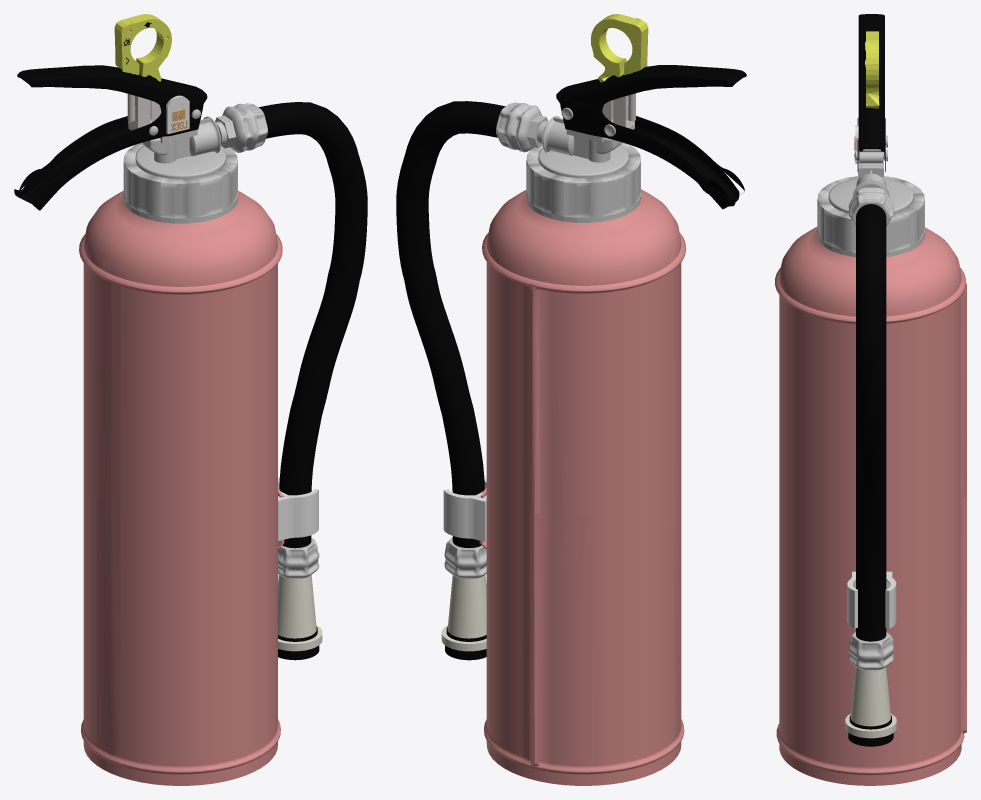
Rendered from extinguisher.fbx.
The picture shows the model from 3 angles, left to right: view 1: azimuth 30°, elevation 25°; view 2: azimuth 150°, elevation 25°; view 3: azimuth 270°, elevation 25°; orthographic projection. The views are drawn at different scales.
Parts seen in each view (by area): view 1: mhq:Obj3d66_650340_1269_982, mhq:Obj3d66_650340_1288_762, mhq:Obj3d66_650340_1289_675, mhq:Obj3d66_650340_1294_460, mhq:Obj3d66_650340_1305_972, mhq:Obj3d66_650340_1308_632, mhq:Obj3d66_650340_1273_63, mhq:Obj3d66_650340_1272_105, mhq:Obj3d66_650340_1278_932, mhq:Obj3d66_650340_1292_103, mhq:Obj3d66_650340_1293_708, mhq:Obj3d66_650340_1297_964 (+2 smaller); view 2: mhq:Obj3d66_650340_1269_982, mhq:Obj3d66_650340_1288_762, mhq:Obj3d66_650340_1289_675, mhq:Obj3d66_650340_1294_460, mhq:Obj3d66_650340_1305_972, mhq:Obj3d66_650340_1308_632, mhq:Obj3d66_650340_1273_63, mhq:Obj3d66_650340_1272_105, mhq:Obj3d66_650340_1278_932, mhq:Obj3d66_650340_1292_103, mhq:Obj3d66_650340_1293_708, mhq:Obj3d66_650340_1297_964 (+1 smaller); view 3: mhq:Obj3d66_650340_1269_982, mhq:Obj3d66_650340_1288_762, mhq:Obj3d66_650340_1289_675, mhq:Obj3d66_650340_1305_972, mhq:Obj3d66_650340_1273_63, mhq:Obj3d66_650340_1293_708, mhq:Obj3d66_650340_1278_932, mhq:Obj3d66_650340_1272_105, mhq:Obj3d66_650340_1308_632, mhq:Obj3d66_650340_1292_103, mhq:Obj3d66_650340_1274_566, mhq:Obj3d66_650340_1297_964 (+1 smaller).
Part boxes in pixels (x1=…): mhq:Obj3d66_650340_1269_982: x1=79, y1=191, x2=282, y2=785; mhq:Obj3d66_650340_1288_762: x1=259, y1=102, x2=367, y2=548; mhq:Obj3d66_650340_1289_675: x1=123, y1=143, x2=237, y2=223; mhq:Obj3d66_650340_1294_460: x1=14, y1=99, x2=203, y2=210; mhq:Obj3d66_650340_1305_972: x1=17, y1=65, x2=207, y2=112; mhq:Obj3d66_650340_1308_632: x1=114, y1=14, x2=171, y2=81; mhq:Obj3d66_650340_1273_63: x1=278, y1=575, x2=316, y2=638; mhq:Obj3d66_650340_1272_105: x1=278, y1=477, x2=318, y2=540; mhq:Obj3d66_650340_1278_932: x1=135, y1=146, x2=225, y2=178; mhq:Obj3d66_650340_1292_103: x1=222, y1=103, x2=268, y2=152; mhq:Obj3d66_650340_1293_708: x1=278, y1=537, x2=319, y2=578; mhq:Obj3d66_650340_1297_964: x1=189, y1=116, x2=220, y2=156; mhq:Obj3d66_650340_1269_982: x1=482, y1=189, x2=686, y2=785; mhq:Obj3d66_650340_1288_762: x1=396, y1=101, x2=505, y2=548; mhq:Obj3d66_650340_1289_675: x1=526, y1=142, x2=640, y2=222; mhq:Obj3d66_650340_1294_460: x1=560, y1=99, x2=744, y2=209; mhq:Obj3d66_650340_1305_972: x1=556, y1=65, x2=746, y2=111; mhq:Obj3d66_650340_1308_632: x1=591, y1=14, x2=648, y2=82; mhq:Obj3d66_650340_1273_63: x1=447, y1=574, x2=486, y2=638; mhq:Obj3d66_650340_1272_105: x1=443, y1=478, x2=486, y2=541; mhq:Obj3d66_650340_1278_932: x1=538, y1=145, x2=628, y2=177; mhq:Obj3d66_650340_1292_103: x1=496, y1=102, x2=542, y2=152; mhq:Obj3d66_650340_1293_708: x1=444, y1=537, x2=486, y2=578; mhq:Obj3d66_650340_1297_964: x1=543, y1=116, x2=574, y2=155; mhq:Obj3d66_650340_1269_982: x1=775, y1=227, x2=966, y2=785; mhq:Obj3d66_650340_1288_762: x1=856, y1=204, x2=886, y2=641; mhq:Obj3d66_650340_1289_675: x1=817, y1=176, x2=924, y2=257; mhq:Obj3d66_650340_1305_972: x1=858, y1=14, x2=884, y2=160; mhq:Obj3d66_650340_1273_63: x1=850, y1=666, x2=890, y2=726; mhq:Obj3d66_650340_1293_708: x1=848, y1=632, x2=893, y2=670; mhq:Obj3d66_650340_1278_932: x1=828, y1=178, x2=913, y2=213; mhq:Obj3d66_650340_1272_105: x1=847, y1=571, x2=896, y2=628; mhq:Obj3d66_650340_1308_632: x1=866, y1=31, x2=879, y2=108; mhq:Obj3d66_650340_1292_103: x1=848, y1=187, x2=893, y2=225; mhq:Obj3d66_650340_1274_566: x1=845, y1=714, x2=896, y2=738; mhq:Obj3d66_650340_1297_964: x1=853, y1=173, x2=889, y2=196.
Size of the model in its own units: 6.12 by 12.64 by 3.15.
